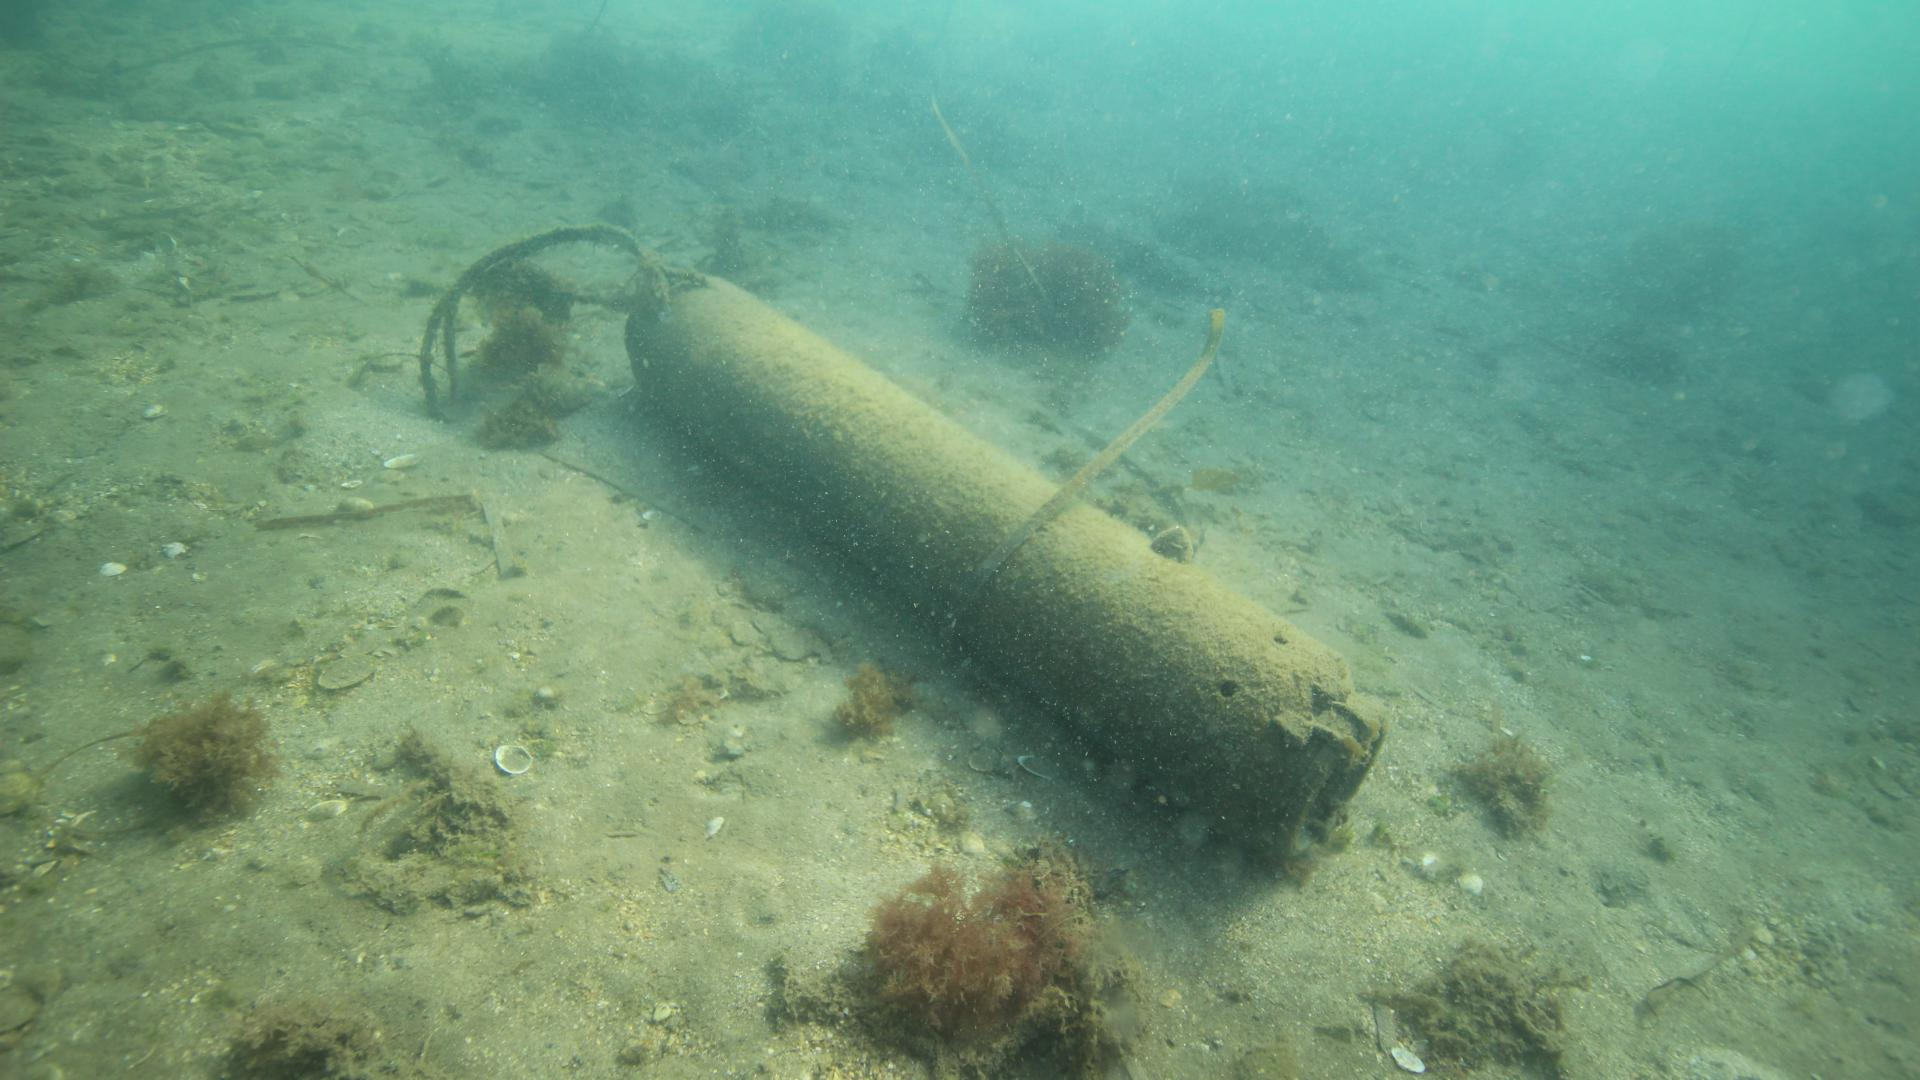bundle of ropes: (405, 224, 655, 400)
eel fish trap: (622, 264, 1394, 870)
